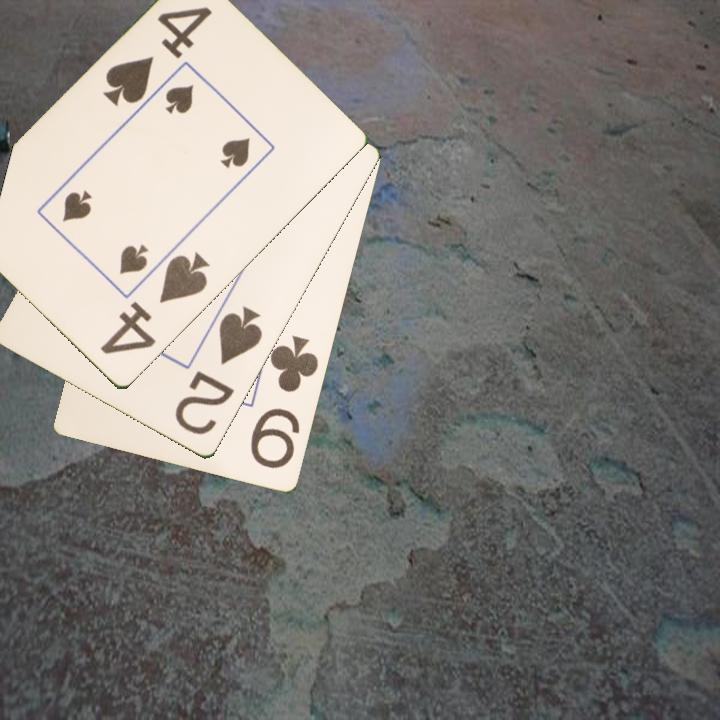2s: (171, 302, 266, 439)
4s: (96, 249, 213, 358), (99, 3, 215, 111)
9c: (247, 332, 322, 472)
